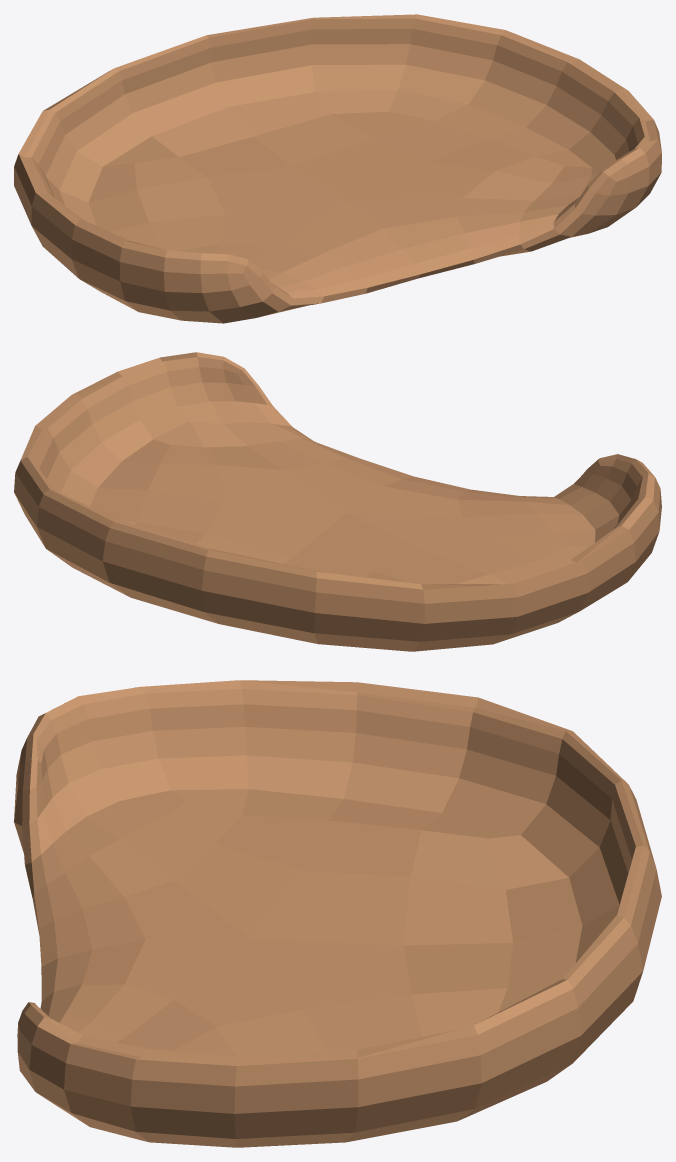
File: DogBed.fbx
3 renders of one model, top to bottom at view 1: azimuth 30°, elevation 25°; view 2: azimuth 150°, elevation 25°; view 3: azimuth 270°, elevation 25°, orthographic. The views are drawn at different scales.
Visible parts, largest first — view 1: DogBed; view 2: DogBed; view 3: DogBed.
Part boxes in pixels (x1=…): DogBed: x1=14, y1=14, x2=661, y2=323; DogBed: x1=14, y1=352, x2=661, y2=651; DogBed: x1=14, y1=680, x2=661, y2=1147.
Size of the model in its own units: 0.6512 by 0.1024 by 0.4571.
Materials: 1 (1 with a texture image).
